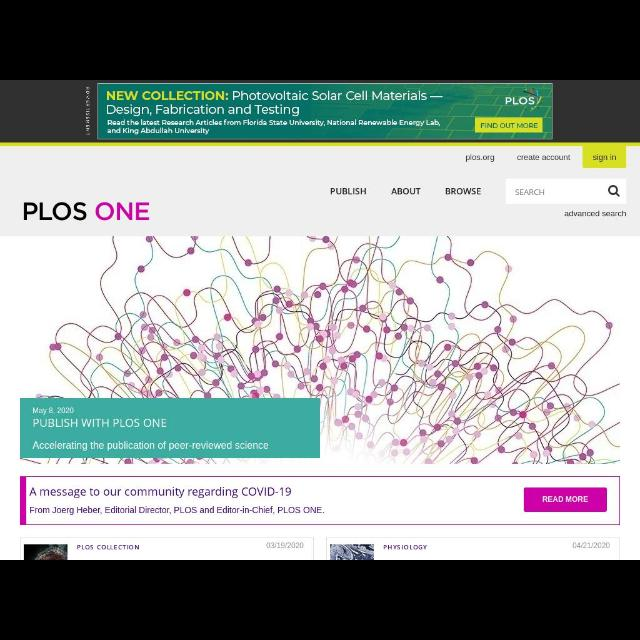icon: (608, 184, 620, 196)
iframe: (1, 80, 639, 142)
image: (1, 237, 619, 465), (23, 200, 149, 223), (23, 543, 67, 559), (330, 544, 376, 558)
input: (506, 178, 626, 202)
text: (29, 506, 324, 516), (29, 488, 290, 498), (34, 440, 268, 450), (34, 415, 168, 429), (566, 210, 626, 218), (542, 495, 588, 505), (76, 544, 140, 550), (518, 155, 572, 161), (444, 188, 482, 196), (466, 153, 496, 163), (392, 186, 421, 196), (382, 544, 428, 550), (330, 187, 364, 195), (593, 154, 617, 164), (514, 188, 544, 196), (32, 407, 72, 413), (571, 542, 611, 548), (266, 542, 304, 548)
textbutton: (524, 488, 606, 512), (584, 146, 626, 168)
